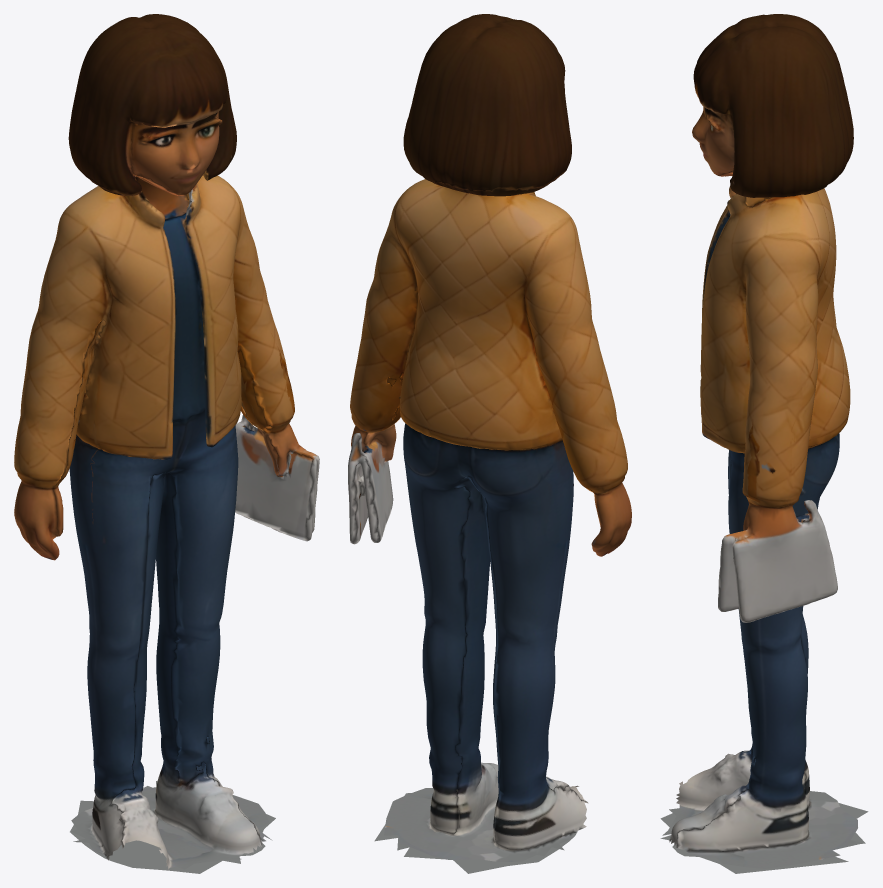
File: ayla.glb
3 renders of one model, left to right at view 1: azimuth 30°, elevation 25°; view 2: azimuth 150°, elevation 25°; view 3: azimuth 270°, elevation 25°, orthographic.
Visible parts, largest first — view 1: perso; view 2: perso; view 3: perso.
Part boxes in pixels (box(x1,y1,x2,y2)): perso: box(14, 14, 319, 873); perso: box(348, 14, 631, 873); perso: box(660, 14, 868, 873).
Size of the model in its own units: 0.7271 by 1.99 by 0.4692.
1 material, 1 textured.
